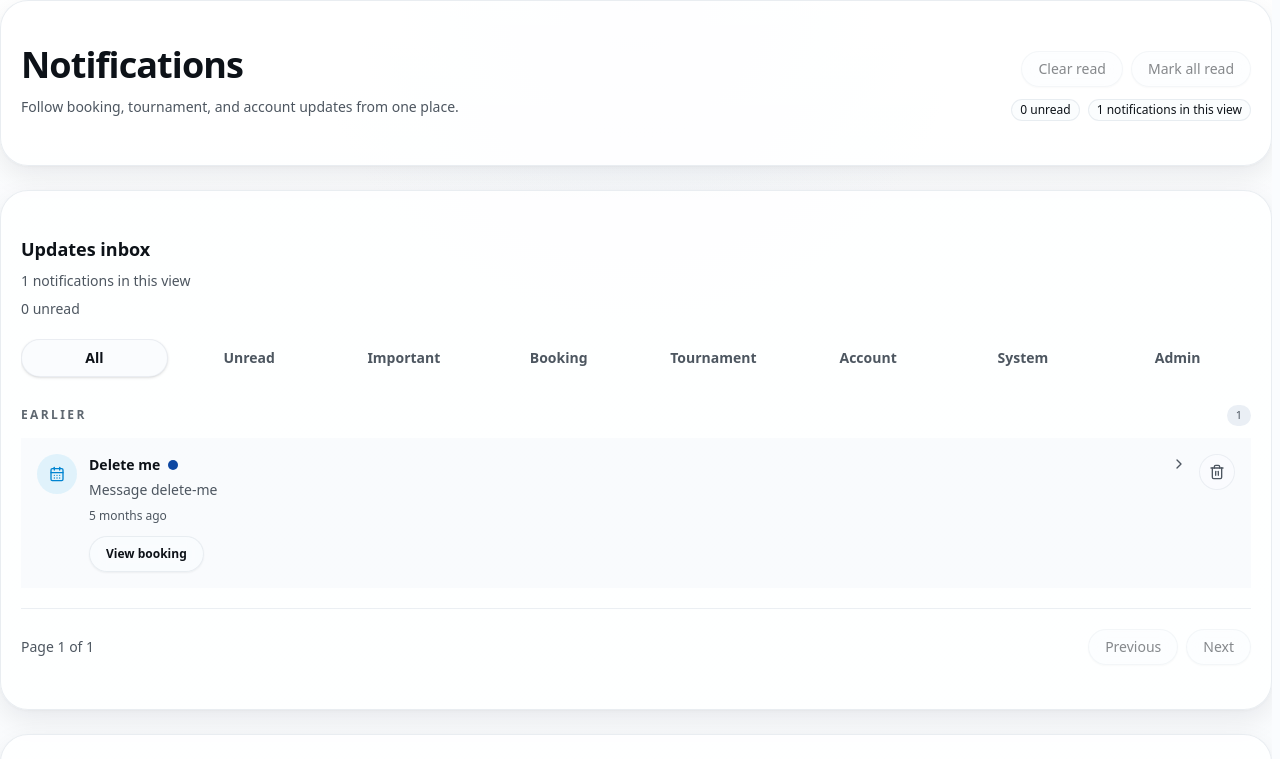
Test: NotificationsPage › asks for confirmation before deleting a notification
Expected: the button "Delete me Message delete-me 5 months ago" is shown, [37, 454, 1187, 524]
Click the button named "Delete notification": (1217, 472) [1199, 454, 1235, 490]
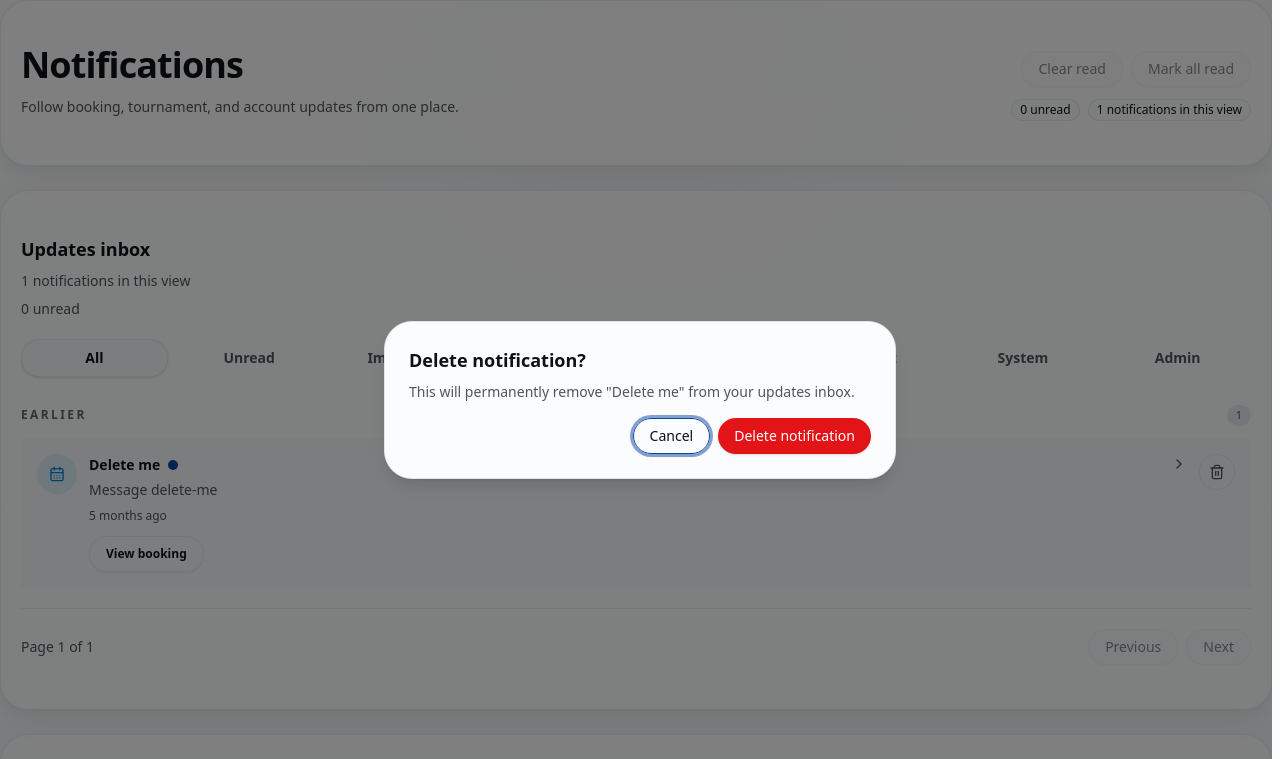
Expected: the dialog is shown, [384, 321, 896, 479]
Expected: the heading "Delete notification?" is shown, [409, 348, 586, 372]
Click the button "Delete notification": (795, 436) [718, 418, 871, 454]
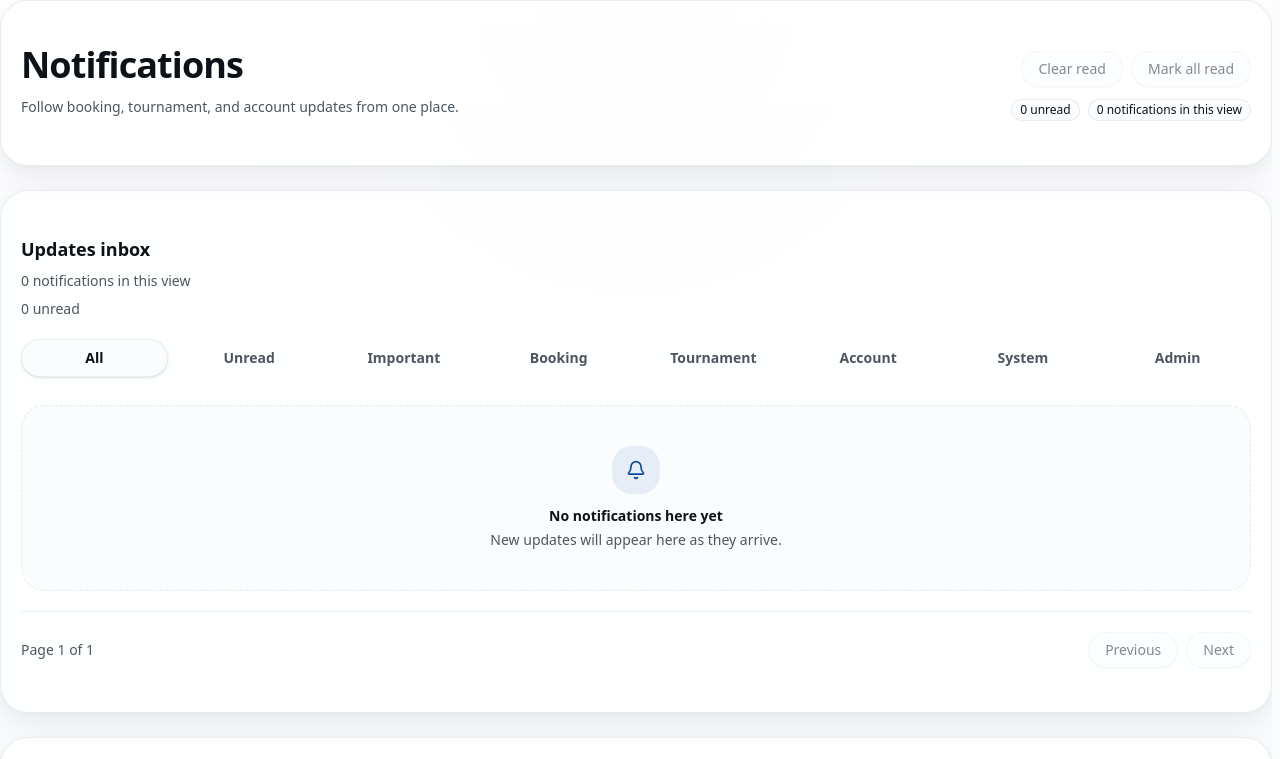
Expected: the button "Delete me" is gone
